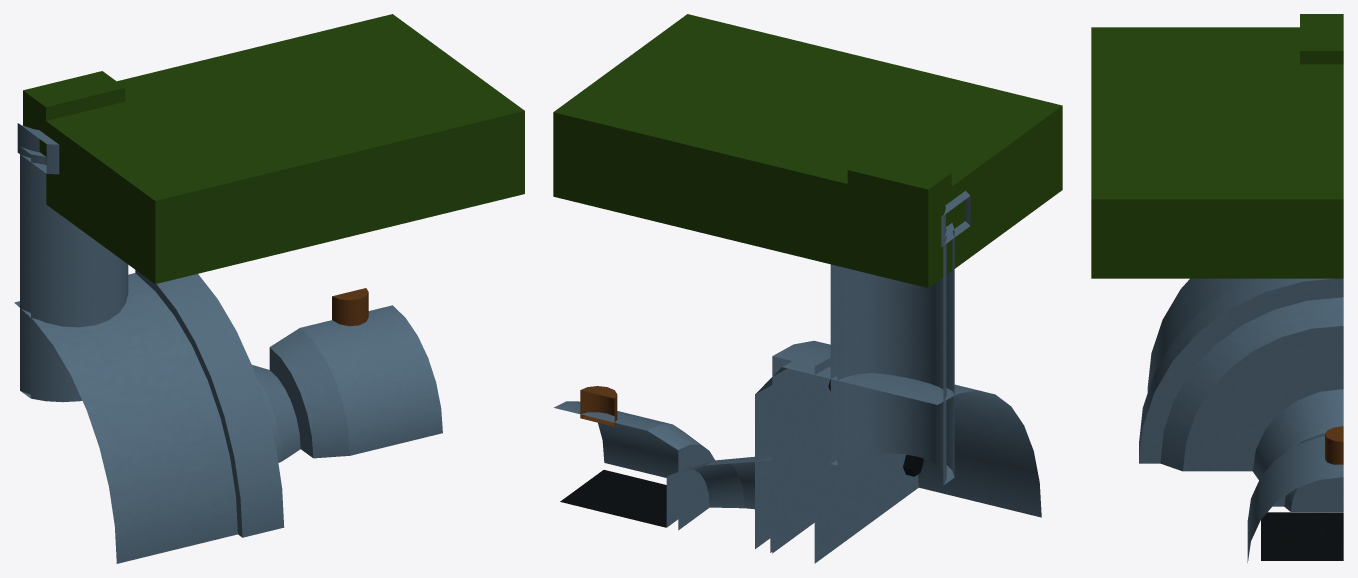
File: cell_20.obj
3 views of the same model, side by side, from view 1: azimuth 30°, elevation 25°; view 2: azimuth 150°, elevation 25°; view 3: azimuth 270°, elevation 25° (orthographic). The views are drawn at different scales.
Visible parts, largest first — view 1: cell_20; view 2: cell_20; view 3: cell_20.
Part boxes in pixels (<box>): cell_20: <box>14,14,524,563</box>; cell_20: <box>553,14,1062,563</box>; cell_20: <box>1091,14,1343,562</box>.
Size of the model in its own units: 1 by 1 by 0.605.
